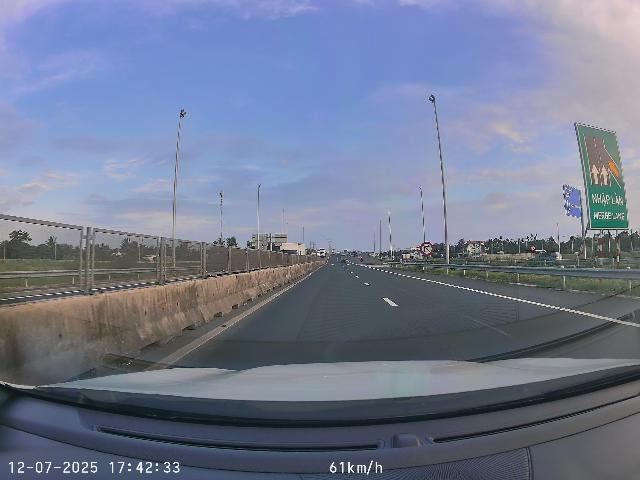123b-cam-re-phai: (420, 241, 434, 255)
